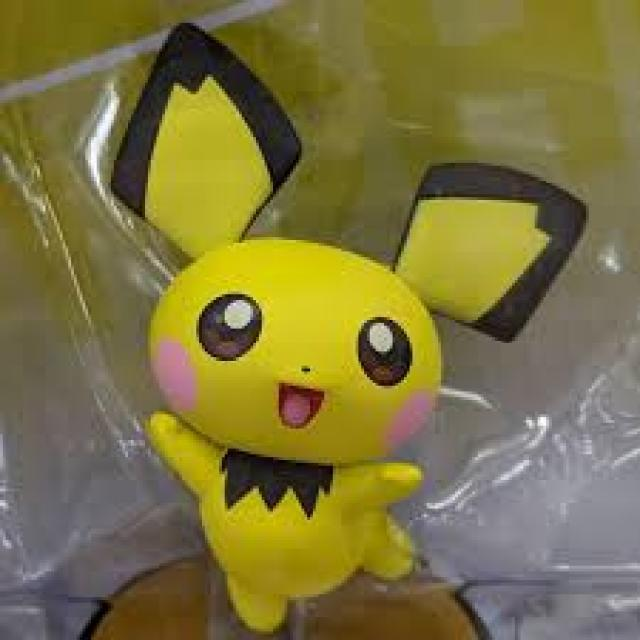pichu: (88, 9, 555, 586)
